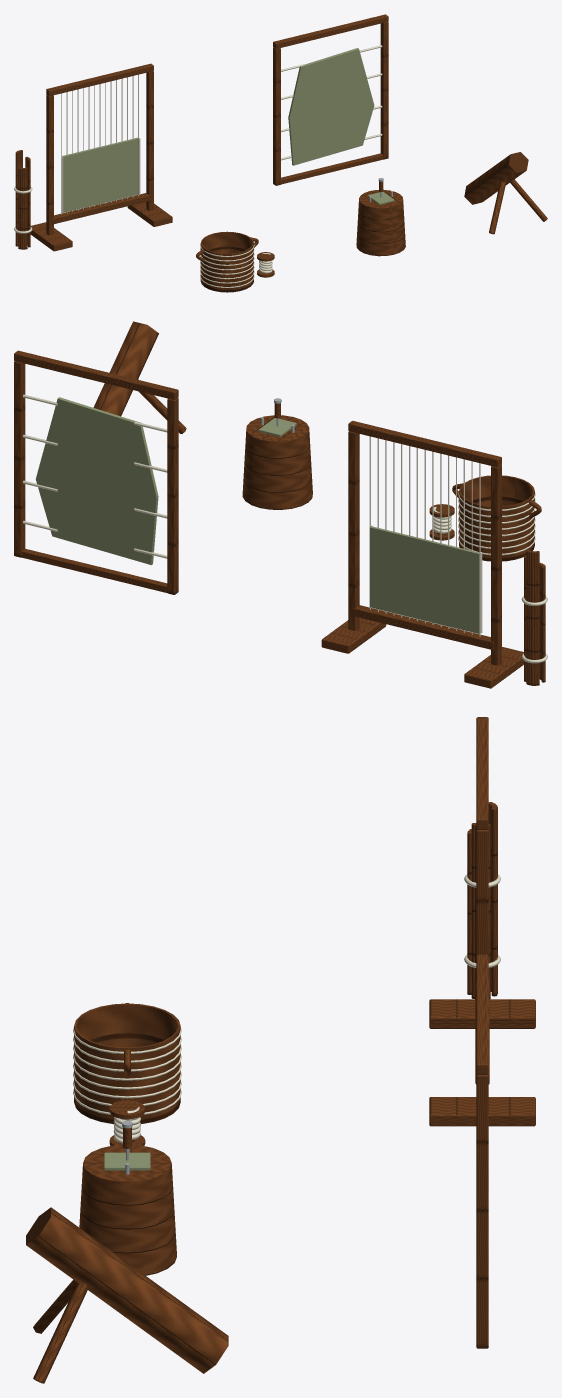
The model's file is primitive-crafting-workshop-fibre-and-hi-c00b3e7e-starter-scene__21589.glb.
The picture shows the model from 3 angles, top to bottom: view 1: azimuth 30°, elevation 25°; view 2: azimuth 150°, elevation 25°; view 3: azimuth 270°, elevation 25°; orthographic projection. The views are drawn at different scales.
Parts seen in each view (by area): view 1: 001-hide-stretching-frame/1, 000-upright-loom/0, 000-upright-loom/1, 001-hide-stretching-frame/0, 004-woven-hamper/0, 002-leatherworking-stump/0, 006-fleshing-beam/0, 000-upright-loom/2, 005-reed-bundle/0, 004-woven-hamper/1; view 2: 001-hide-stretching-frame/1, 000-upright-loom/0, 000-upright-loom/1, 001-hide-stretching-frame/0, 002-leatherworking-stump/0, 004-woven-hamper/0, 000-upright-loom/2, 006-fleshing-beam/0, 005-reed-bundle/0, 004-woven-hamper/1, 001-hide-stretching-frame/2, 007-cordage-spool/0; view 3: 006-fleshing-beam/0, 004-woven-hamper/0, 002-leatherworking-stump/0, 000-upright-loom/0, 001-hide-stretching-frame/0, 005-reed-bundle/0, 004-woven-hamper/1, 002-leatherworking-stump/1.
Boxes of the visible parts, x1,y1,x2,y2 form: 001-hide-stretching-frame/1: (288, 48, 374, 165); 000-upright-loom/0: (30, 63, 172, 251); 000-upright-loom/1: (62, 137, 138, 212); 001-hide-stretching-frame/0: (273, 14, 388, 185); 004-woven-hamper/0: (196, 231, 258, 292); 002-leatherworking-stump/0: (356, 189, 405, 256); 006-fleshing-beam/0: (464, 152, 547, 234); 000-upright-loom/2: (61, 74, 140, 214); 005-reed-bundle/0: (15, 150, 30, 249); 004-woven-hamper/1: (200, 244, 254, 287); 001-hide-stretching-frame/1: (35, 397, 158, 565); 000-upright-loom/0: (321, 421, 523, 688); 000-upright-loom/1: (369, 526, 479, 633); 001-hide-stretching-frame/0: (14, 350, 178, 594); 002-leatherworking-stump/0: (242, 415, 312, 509); 004-woven-hamper/0: (452, 475, 541, 561); 000-upright-loom/2: (369, 436, 482, 636); 006-fleshing-beam/0: (93, 321, 186, 433); 005-reed-bundle/0: (524, 550, 545, 685); 004-woven-hamper/1: (458, 492, 535, 555); 001-hide-stretching-frame/2: (22, 394, 167, 558); 007-cordage-spool/0: (429, 504, 454, 540); 006-fleshing-beam/0: (26, 1207, 228, 1383); 004-woven-hamper/0: (74, 1003, 180, 1124); 002-leatherworking-stump/0: (79, 1144, 176, 1275); 000-upright-loom/0: (429, 717, 535, 1126); 001-hide-stretching-frame/0: (476, 954, 488, 1348); 005-reed-bundle/0: (467, 802, 497, 998); 004-woven-hamper/1: (73, 1027, 181, 1114); 002-leatherworking-stump/1: (104, 1152, 150, 1170).
Bounding box in the file's own units: 5.48 × 1.87 × 2.87.
Materials: 4 (1 with a texture image).
